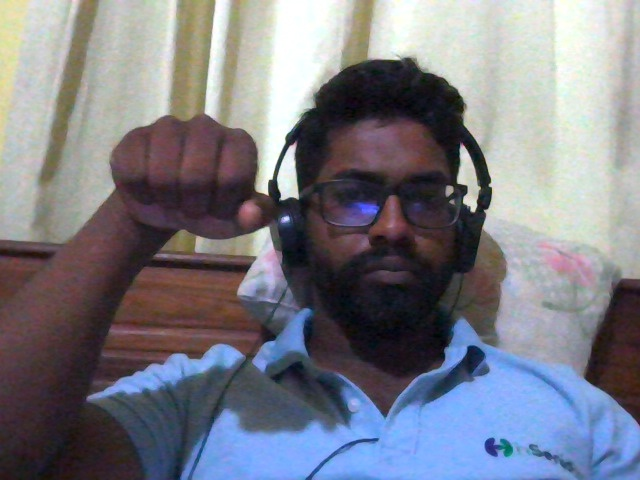Yes: (75, 97, 311, 270)
